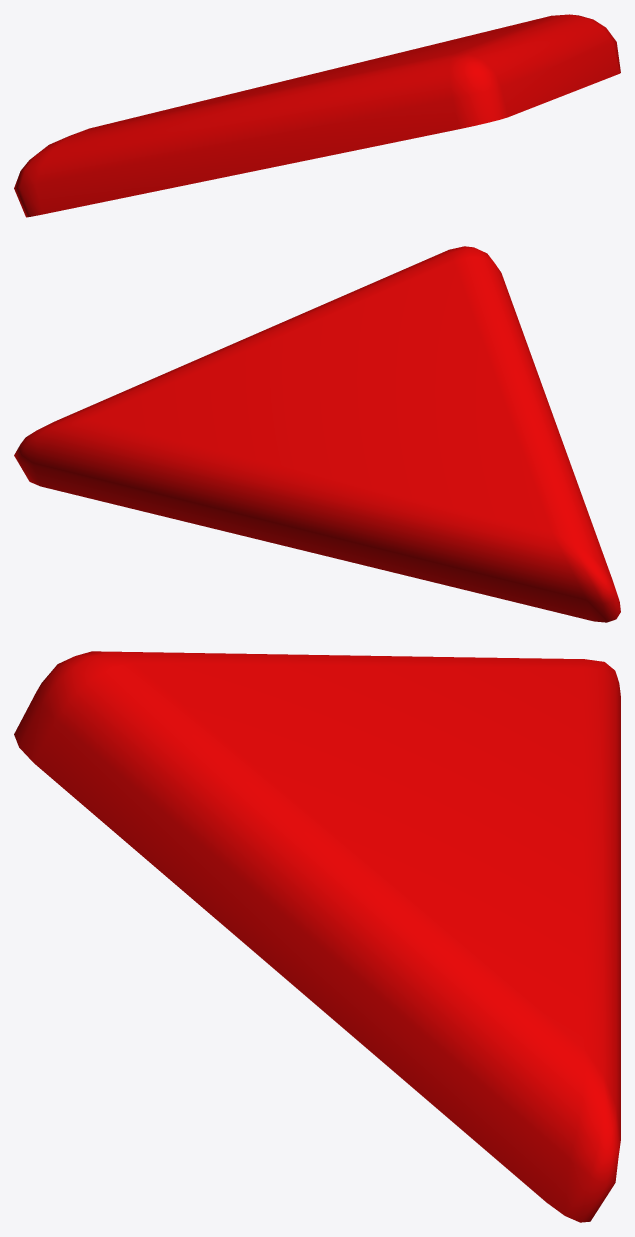
File: Geo_LiftButtonA_L3.fbx
The picture shows the model from 3 angles, top to bottom: view 1: azimuth 30°, elevation 25°; view 2: azimuth 150°, elevation 25°; view 3: azimuth 270°, elevation 25°; orthographic projection. The views are drawn at different scales.
Visible parts, largest first — view 1: Cube.001; view 2: Cube.001; view 3: Cube.001.
Boxes of the visible parts, left/top/right/bottom form: Cube.001: left=14, top=14, right=620, bottom=217; Cube.001: left=14, top=246, right=620, bottom=622; Cube.001: left=14, top=651, right=620, bottom=1222.
Size of the model in its own units: 24.26 by 7.59 by 12.66.
